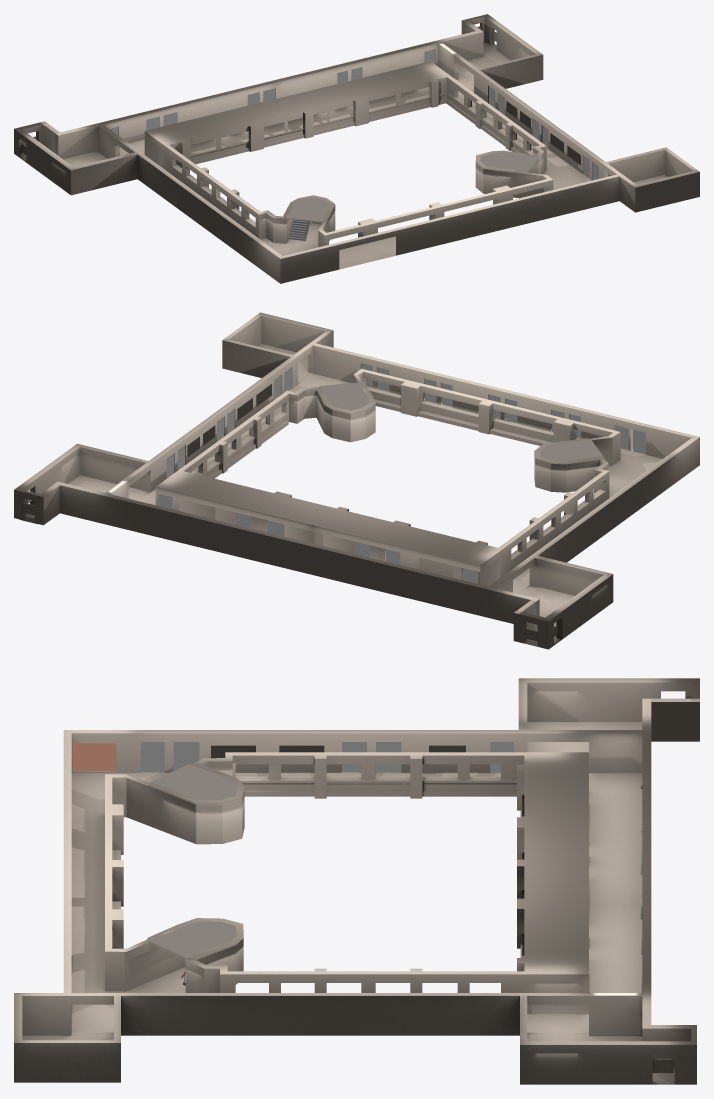
File: 1107MoveCollision.glb
3 views of the same model, one above another, from view 1: azimuth 30°, elevation 25°; view 2: azimuth 150°, elevation 25°; view 3: azimuth 270°, elevation 25° (orthographic). The views are drawn at different scales.
Parts seen in each view (by area): view 1: 8樓主體, 本體/灰門; view 2: 8樓主體, 本體/灰門; view 3: 8樓主體, 本體/灰門, 本體/粉紅門.
Boxes of the visible parts, x1,y1,x2,y2 form: 8樓主體: (14,14,699,283); 本體/灰門: (109,49,598,180); 8樓主體: (14,312,699,649); 本體/灰門: (159,363,645,583); 8樓主體: (14,678,699,1084); 本體/灰門: (141,742,513,772); 本體/粉紅門: (73,743,116,770).
Bounding box in the file's own units: 88.62 × 4.69 × 70.03.
Materials: 7 (3 with a texture image).
